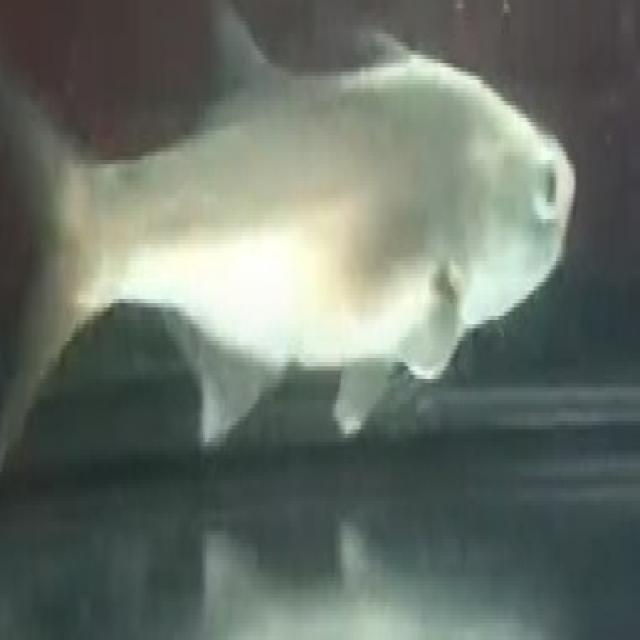Fourfinger-Threadfin: (4, 23, 640, 553)
